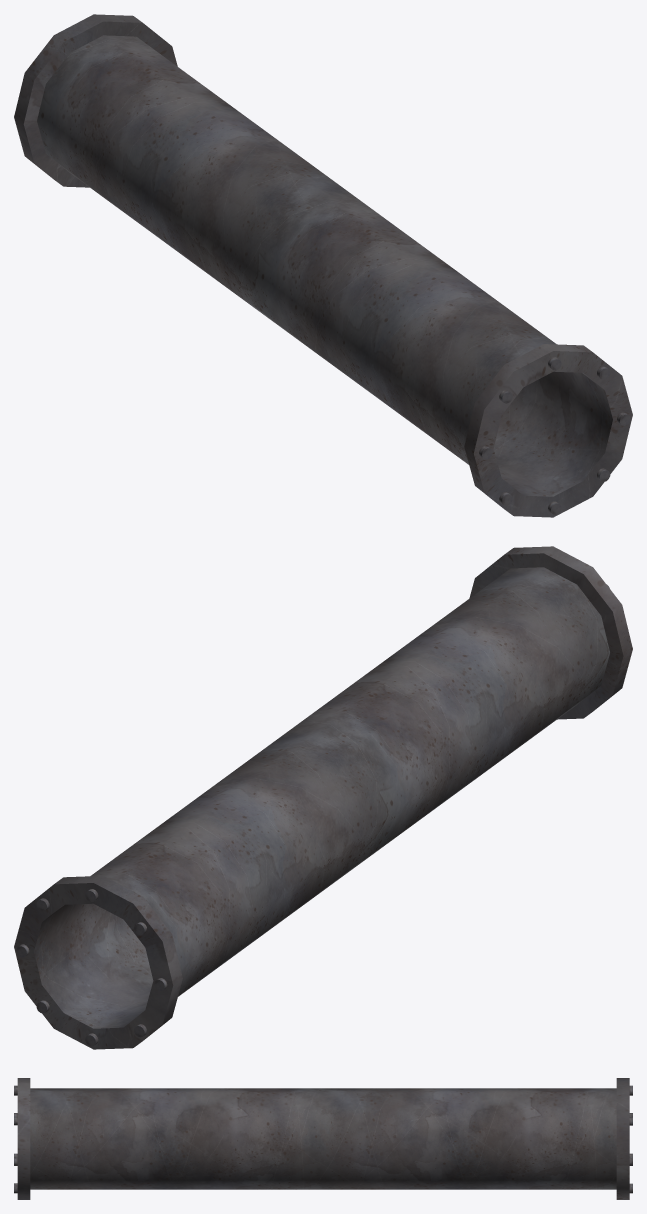
Rendered from Pipe_Long.fbx.
The picture shows the model from 3 angles, top to bottom: view 1: azimuth 30°, elevation 25°; view 2: azimuth 150°, elevation 25°; view 3: azimuth 270°, elevation 25°; orthographic projection. The views are drawn at different scales.
Parts seen in each view (by area): view 1: Straight Long; view 2: Straight Long; view 3: Straight Long.
Boxes of the visible parts, x1,y1,x2,y2 form: Straight Long: [14, 14, 632, 517]; Straight Long: [14, 546, 632, 1049]; Straight Long: [14, 1078, 632, 1199].
Bounding box in the file's own units: 6 × 6 × 30.35.
